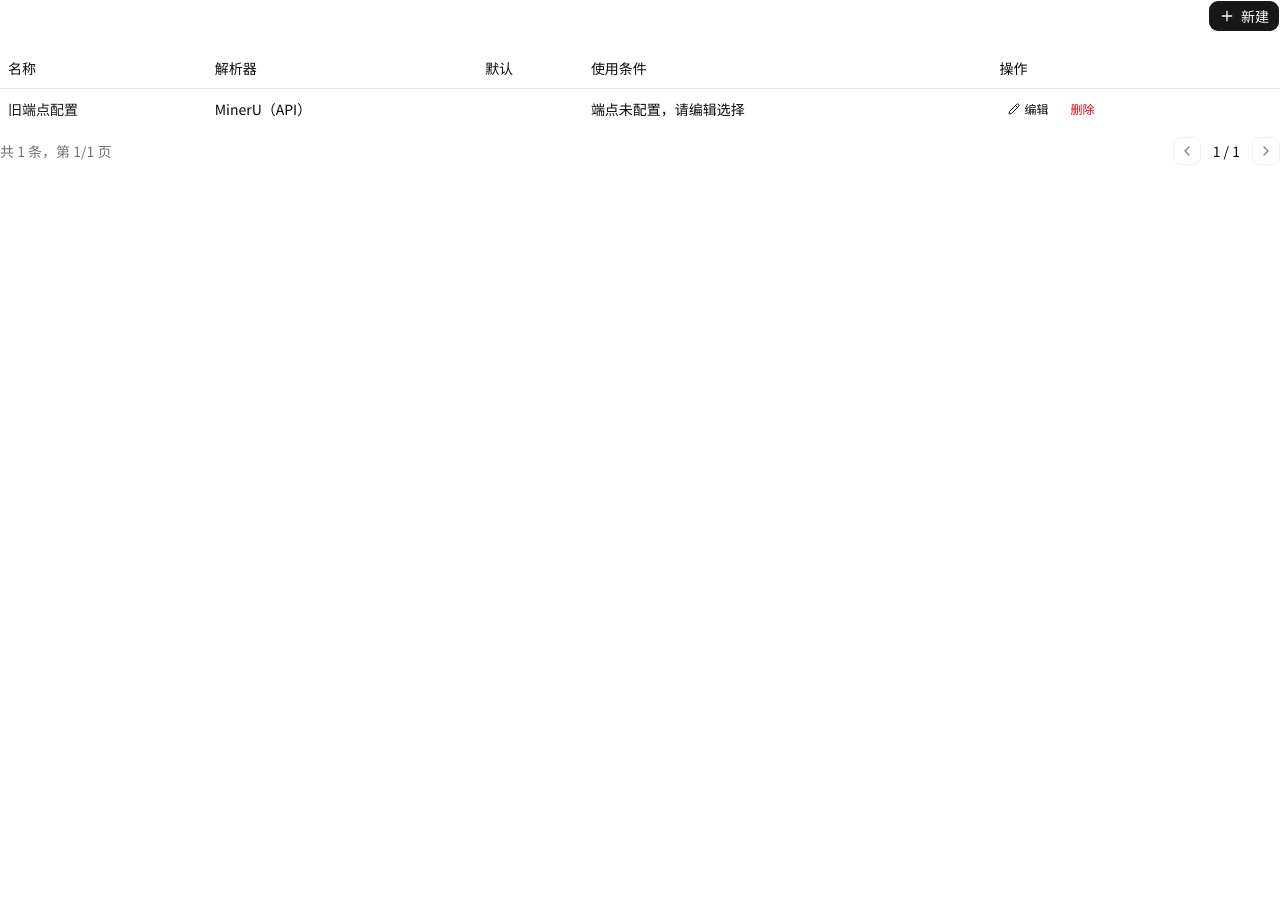
ParserProfile 安全合同 › 既有配置指向已移除的端点时必须重新选择
Click the button "旧端点配置" at (43, 108), box left=8, top=98, right=78, bottom=118
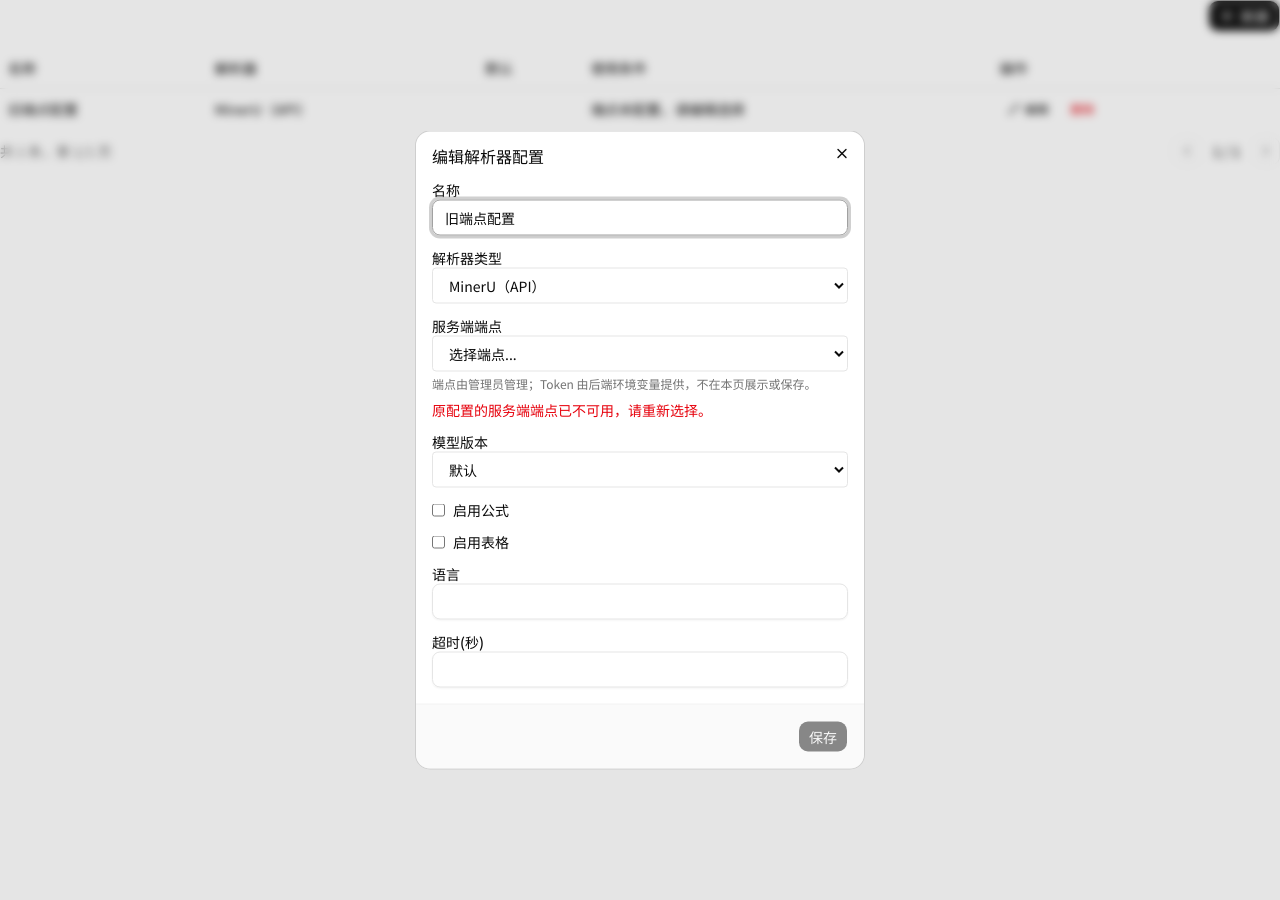
Expected: the text "原配置的服务端端点已不可用，请重新选择。" is shown, left=432, top=400, right=712, bottom=420
Expected: the button "保存" is disabled, left=798, top=720, right=848, bottom=752
Select "MinerU 官方（凭证已配置）" in the dropdown labelled "服务端端点" at (640, 354), box left=432, top=336, right=848, bottom=372
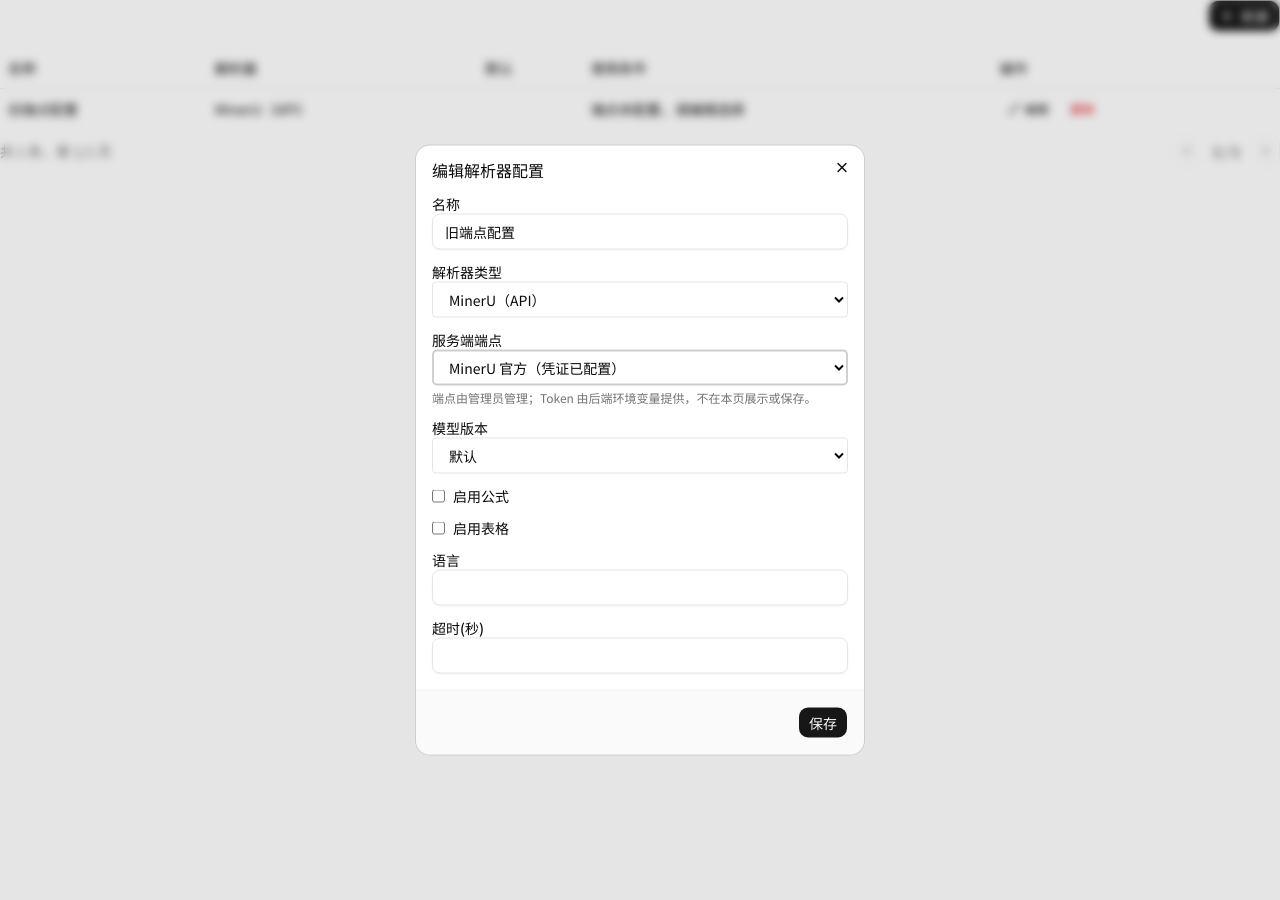
Expected: the button "保存" is enabled, left=798, top=706, right=848, bottom=738
